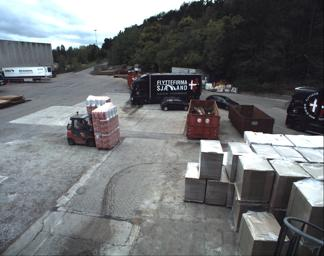rockwool_batts: (92, 102, 119, 147), (87, 95, 109, 116)
